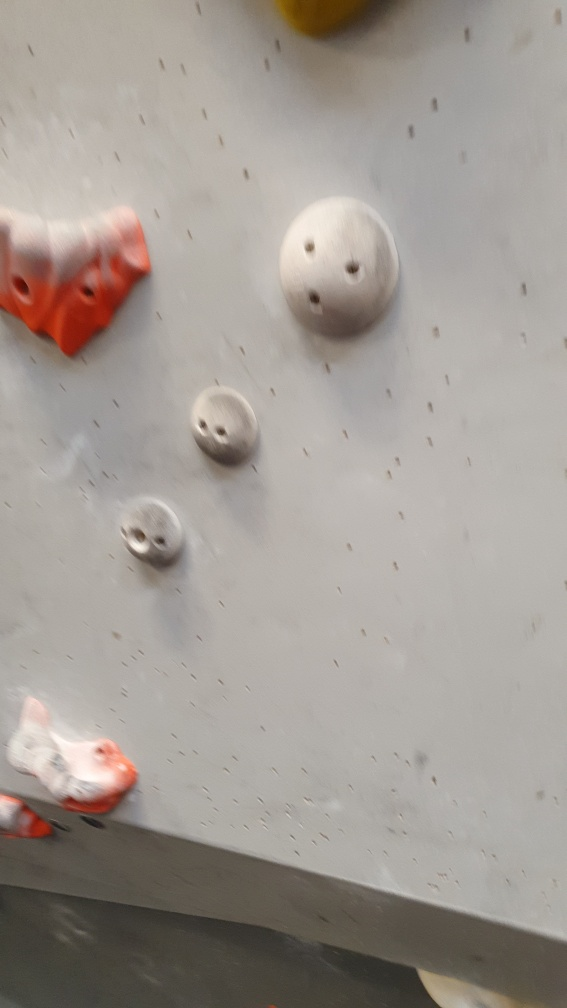Jug: (1, 200, 159, 360), (9, 694, 141, 816)
Sloper: (275, 192, 404, 343), (186, 384, 261, 472), (116, 494, 188, 570)
